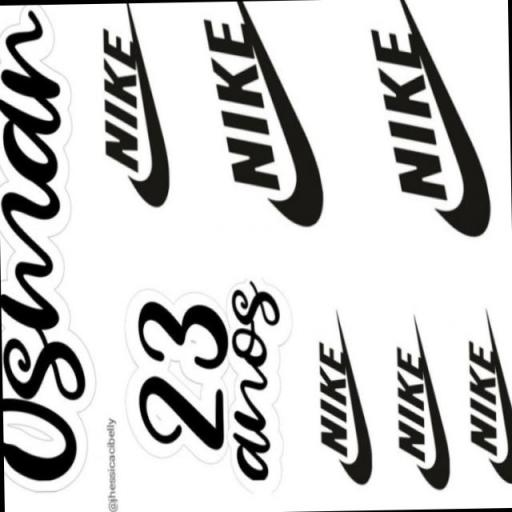Nike: (130, 33, 171, 208), (100, 28, 138, 171)
